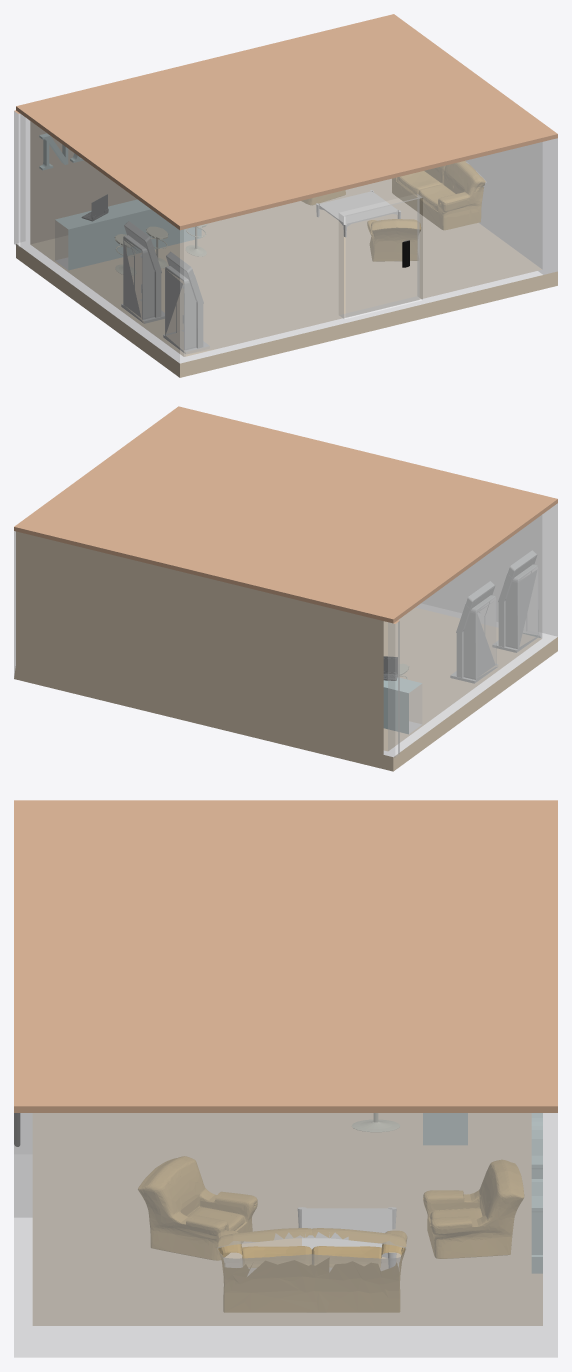
Rendered from PopUpStoreAntonin.glb.
3 views of the same model, one above another, from view 1: azimuth 30°, elevation 25°; view 2: azimuth 150°, elevation 25°; view 3: azimuth 270°, elevation 25° (orthographic). The views are drawn at different scales.
Parts seen in each view (by area): view 1: Mesh_Mesh_head_geo.001_lambert2SG.002, Mesh_Mesh_head_geo.001_lambert2SG.008, Mesh_Mesh_head_geo.001_lambert2SG.005, Mesh_Mesh_head_geo.001_lambert2SG.001, Mesh_Mesh_head_geo.001_lambert2SG.006, Mesh_Mesh_head_geo.001_lambert2SG.003, Mesh_Mesh_head_geo.001_lambert2SG.009, Mesh_Mesh_head_geo.001_lambert2SG.007; view 2: Mesh_Mesh_head_geo.001_lambert2SG.002, Mesh_Mesh_head_geo.001_lambert2SG.001, Mesh_Mesh_head_geo.001_lambert2SG.006, Mesh_Mesh_head_geo.001_lambert2SG.005, Mesh_Mesh_head_geo.001_lambert2SG.008, Mesh_Mesh_head_geo.001_lambert2SG.007; view 3: Mesh_Mesh_head_geo.001_lambert2SG.002, Mesh_Mesh_head_geo.001_lambert2SG.003, Mesh_Mesh_head_geo.001_lambert2SG.005, Mesh_Mesh_head_geo.001_lambert2SG.001, Mesh_Mesh_head_geo.001_lambert2SG.004, Mesh_Mesh_head_geo.001_lambert2SG.008.
Boxes of the visible parts, bbox=[...] form: Mesh_Mesh_head_geo.001_lambert2SG.002: bbox=[16, 14, 557, 225]; Mesh_Mesh_head_geo.001_lambert2SG.008: bbox=[180, 138, 557, 363]; Mesh_Mesh_head_geo.001_lambert2SG.005: bbox=[16, 179, 557, 377]; Mesh_Mesh_head_geo.001_lambert2SG.001: bbox=[30, 121, 485, 352]; Mesh_Mesh_head_geo.001_lambert2SG.006: bbox=[14, 111, 185, 362]; Mesh_Mesh_head_geo.001_lambert2SG.003: bbox=[466, 138, 557, 274]; Mesh_Mesh_head_geo.001_lambert2SG.009: bbox=[180, 134, 557, 230]; Mesh_Mesh_head_geo.001_lambert2SG.007: bbox=[14, 106, 179, 229]; Mesh_Mesh_head_geo.001_lambert2SG.002: bbox=[14, 406, 557, 620]; Mesh_Mesh_head_geo.001_lambert2SG.001: bbox=[16, 531, 539, 754]; Mesh_Mesh_head_geo.001_lambert2SG.006: bbox=[384, 503, 557, 757]; Mesh_Mesh_head_geo.001_lambert2SG.005: bbox=[14, 608, 557, 771]; Mesh_Mesh_head_geo.001_lambert2SG.008: bbox=[421, 504, 557, 636]; Mesh_Mesh_head_geo.001_lambert2SG.007: bbox=[384, 499, 557, 623]; Mesh_Mesh_head_geo.001_lambert2SG.002: bbox=[14, 800, 557, 1106]; Mesh_Mesh_head_geo.001_lambert2SG.003: bbox=[14, 1113, 557, 1357]; Mesh_Mesh_head_geo.001_lambert2SG.005: bbox=[33, 1113, 542, 1325]; Mesh_Mesh_head_geo.001_lambert2SG.001: bbox=[138, 1113, 542, 1312]; Mesh_Mesh_head_geo.001_lambert2SG.004: bbox=[14, 1106, 557, 1112]; Mesh_Mesh_head_geo.001_lambert2SG.008: bbox=[14, 1113, 32, 1217].
Bounding box in the file's own units: 0.194 × 0.074 × 0.145.
